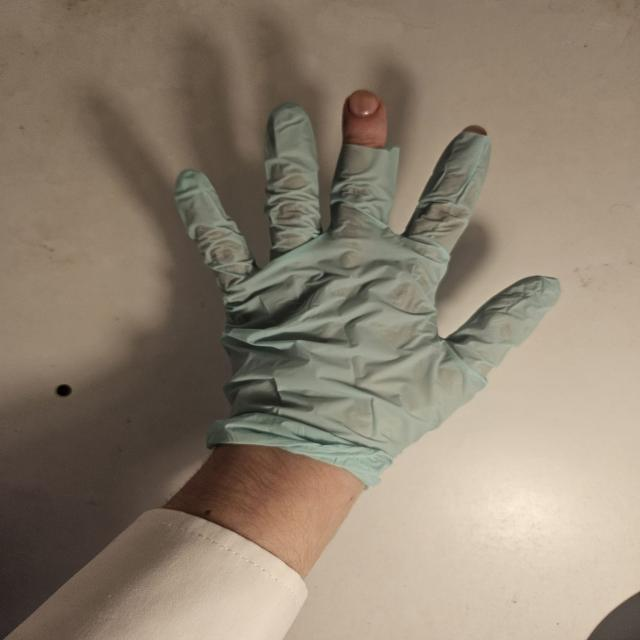gloves_damaged: (168, 85, 566, 484)
